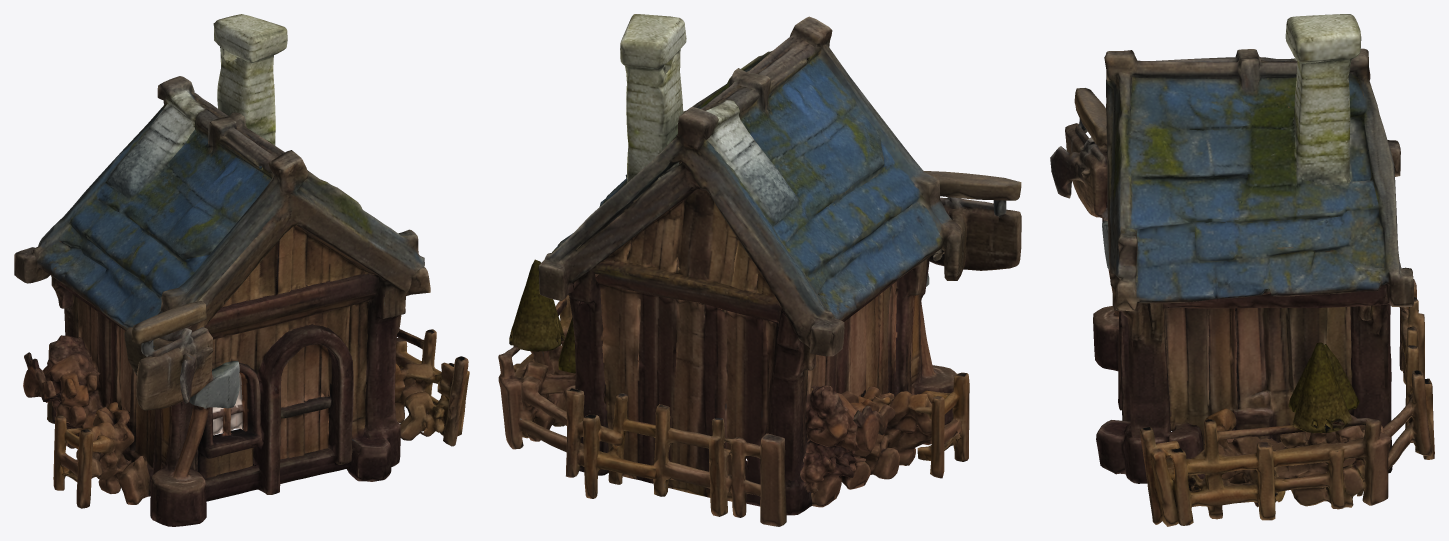
File: woodcutter_hut.glb
3 views of the same model, side by side, from view 1: azimuth 30°, elevation 25°; view 2: azimuth 150°, elevation 25°; view 3: azimuth 270°, elevation 25° (orthographic). The views are drawn at different scales.
Parts seen in each view (by area): view 1: woodcutter_hut_s8_fit; view 2: woodcutter_hut_s8_fit; view 3: woodcutter_hut_s8_fit.
Boxes of the visible parts, x1=… form: woodcutter_hut_s8_fit: x1=14, y1=14, x2=469, y2=526; woodcutter_hut_s8_fit: x1=498, y1=14, x2=1021, y2=526; woodcutter_hut_s8_fit: x1=1050, y1=14, x2=1434, y2=526.
Bounding box in the file's own units: 4.02 × 4.08 × 3.28.
Materials: 1 (1 with a texture image).
